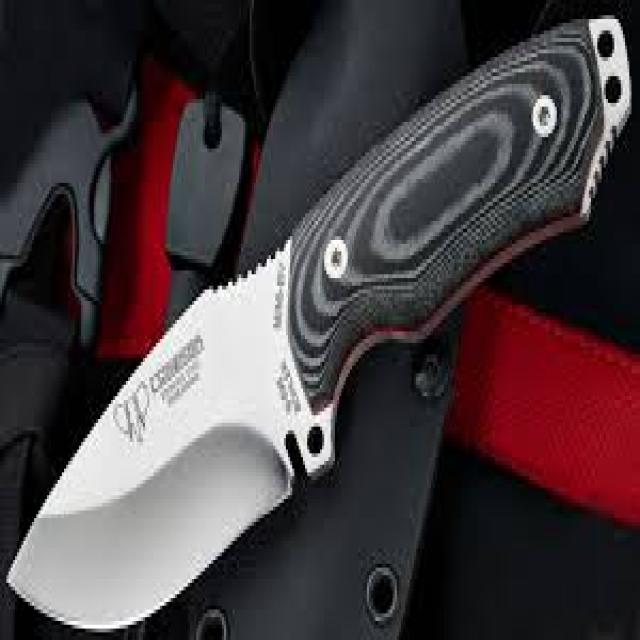knives: (6, 8, 634, 636), (6, 237, 337, 630)
